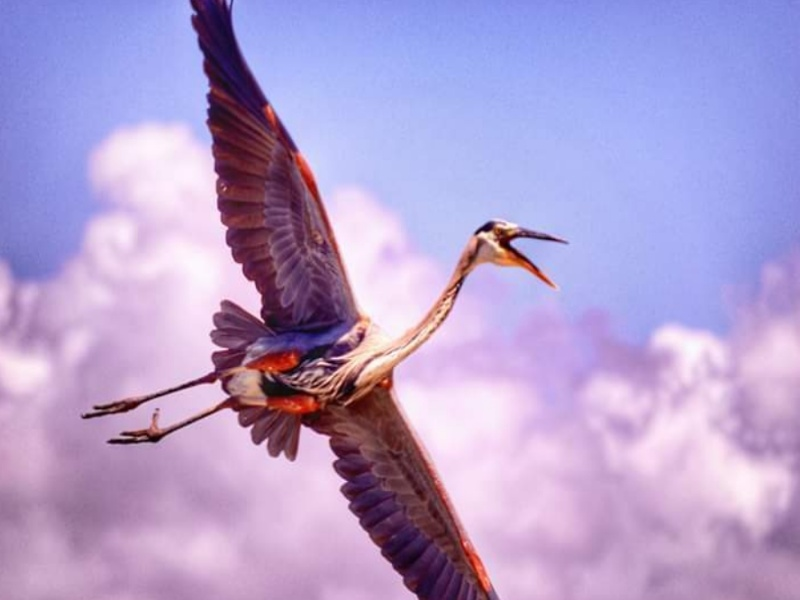heron: (75, 1, 575, 599)
